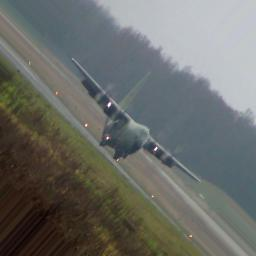Airplane: (71, 56, 202, 184)
